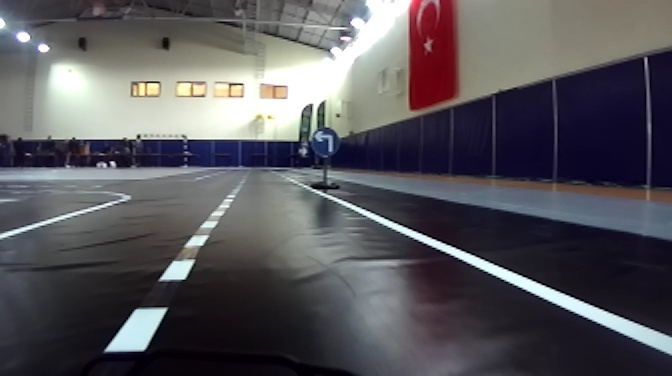sola_donus: (310, 126, 339, 159)
